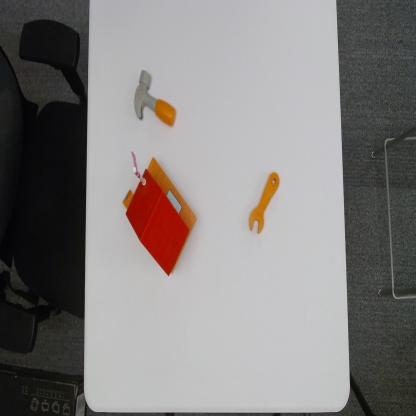Hammer: (134, 68, 178, 127)
House: (122, 150, 198, 278)
Screwdriver: (247, 170, 280, 235)
